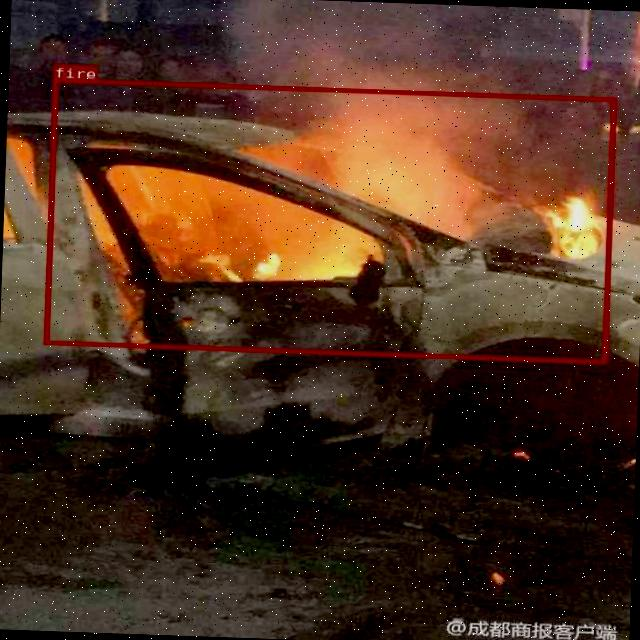fire: (42, 76, 614, 362)
